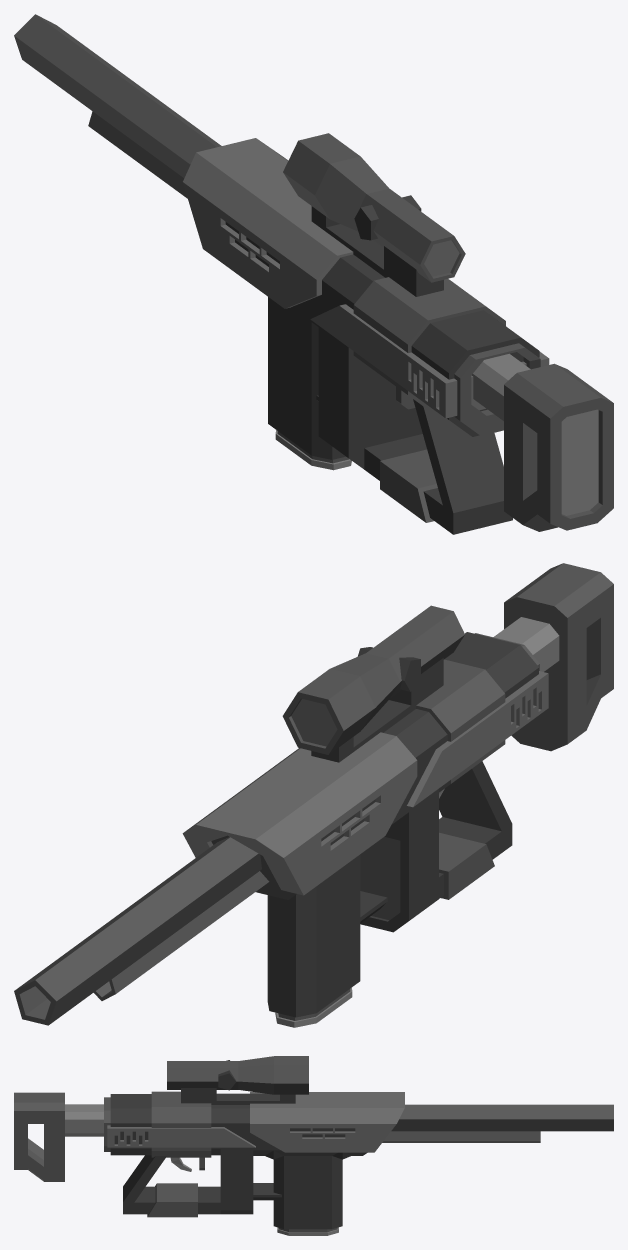
Rendered from sniper_1.glb.
3 views of the same model, one above another, from view 1: azimuth 30°, elevation 25°; view 2: azimuth 150°, elevation 25°; view 3: azimuth 270°, elevation 25° (orthographic). The views are drawn at different scales.
Visible parts, largest first — view 1: sniper_1, sniper_scope_1, sniper_charger_1; view 2: sniper_1, sniper_scope_1, sniper_charger_1; view 3: sniper_1, sniper_scope_1, sniper_charger_1.
Part boxes in pixels (bbox=[...]): sniper_1: bbox=[14, 14, 613, 534]; sniper_scope_1: bbox=[283, 133, 465, 296]; sniper_charger_1: bbox=[275, 430, 351, 470]; sniper_1: bbox=[14, 563, 613, 1025]; sniper_scope_1: bbox=[282, 605, 464, 762]; sniper_charger_1: bbox=[275, 987, 352, 1027]; sniper_1: bbox=[14, 1091, 613, 1229]; sniper_scope_1: bbox=[167, 1056, 308, 1104]; sniper_charger_1: bbox=[277, 1227, 338, 1235].
Bounding box in the file's own units: 0.3569 × 1.02 × 3.27.
1 material, 1 textured.
